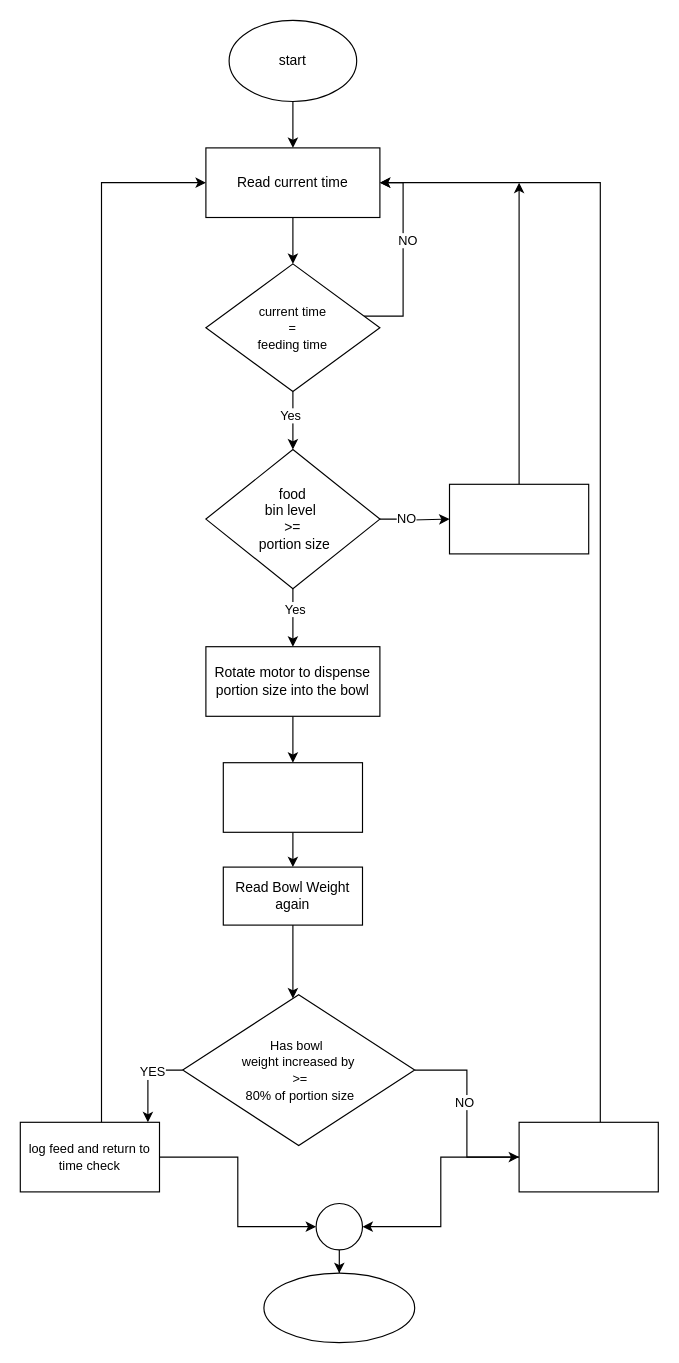
The diagram is 679 pixels wide and 1363 high, and some of its shapes have lost their labels. Here are the shapes that lost their labels. From the top down, the centre of each, then its label:
(518,518): alert "Food bin empty" and record event
(292,797): wait 10 minutes
(588,1156): Alert "Pet not eating" and return to time check
(339,1307): end
